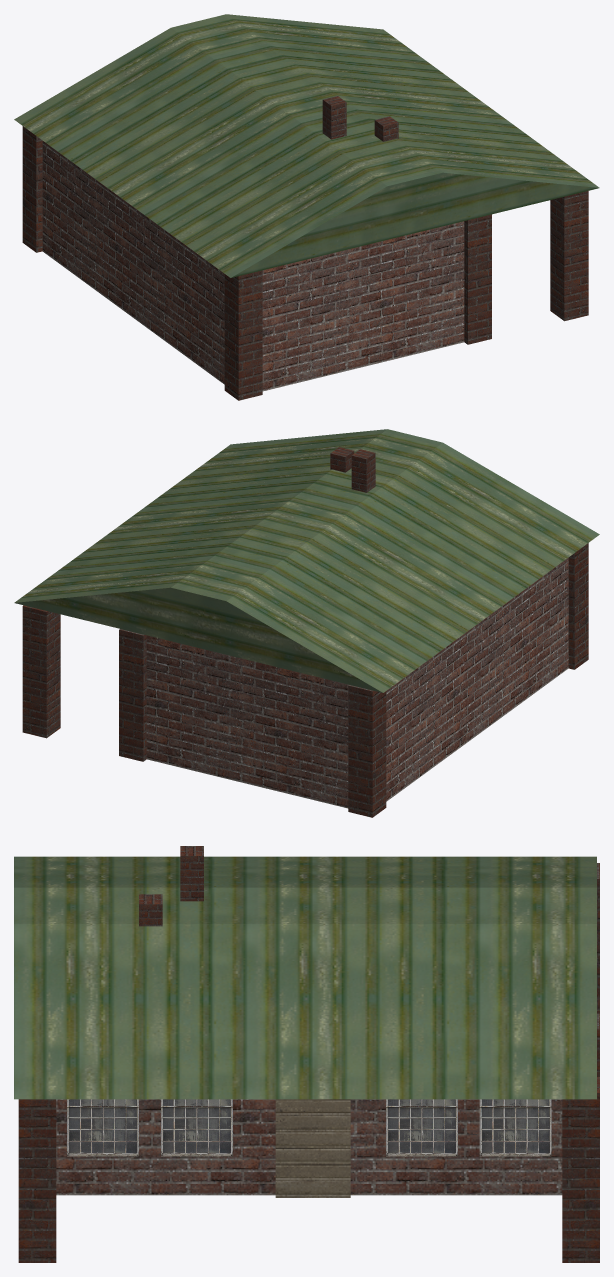
File: Building 3.fbx
The picture shows the model from 3 angles, top to bottom: view 1: azimuth 30°, elevation 25°; view 2: azimuth 150°, elevation 25°; view 3: azimuth 270°, elevation 25°; orthographic projection. The views are drawn at different scales.
Parts seen in each view (by area): view 1: Plane, Cube, Cube.001, Cube.009, Cube.005, Cube.004; view 2: Plane, Cube, Cube.001, Cube.009, Cube.005; view 3: Plane, Cube, Cube.009, Cube.003, Cube.006, Cube.002, Cube.007, Cube.008, Cube.005, Cube.004, Cube.001.
Boxes of the visible parts, <box> form: Plane: <box>14,14,599,277</box>; Cube: <box>42,141,464,391</box>; Cube.001: <box>22,126,491,400</box>; Cube.009: <box>550,191,588,321</box>; Cube.005: <box>322,96,346,139</box>; Cube.004: <box>374,116,398,141</box>; Plane: <box>14,429,599,692</box>; Cube: <box>146,557,568,808</box>; Cube.001: <box>119,543,588,817</box>; Cube.009: <box>22,605,60,738</box>; Cube.005: <box>351,449,375,492</box>; Plane: <box>14,856,596,1099</box>; Cube: <box>56,1099,562,1195</box>; Cube.009: <box>18,1077,599,1262</box>; Cube.003: <box>275,1099,350,1197</box>; Cube.006: <box>479,1099,551,1156</box>; Cube.002: <box>67,1099,138,1156</box>; Cube.007: <box>386,1099,457,1156</box>; Cube.008: <box>161,1099,232,1156</box>; Cube.005: <box>180,846,203,901</box>; Cube.004: <box>139,894,162,926</box>; Cube.001: <box>597,863,599,1076</box>.
Bounding box in the file's own units: 1530 × 845 × 1563.
